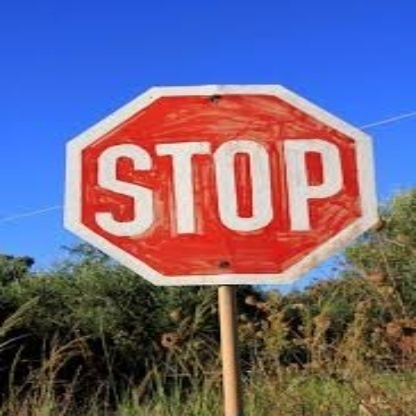stop: (65, 86, 378, 286)
